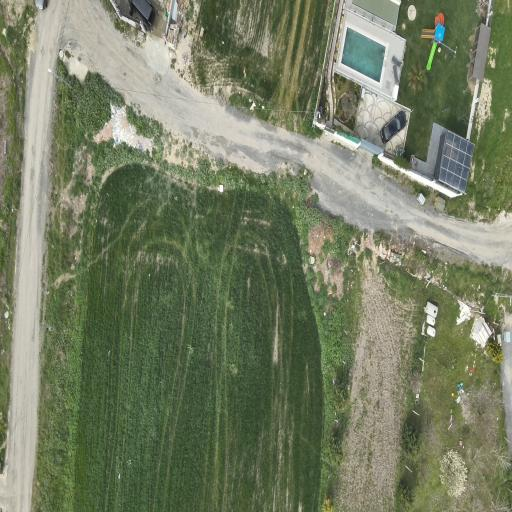car: (381, 111, 406, 143), (130, 0, 156, 28), (35, 0, 47, 9)
